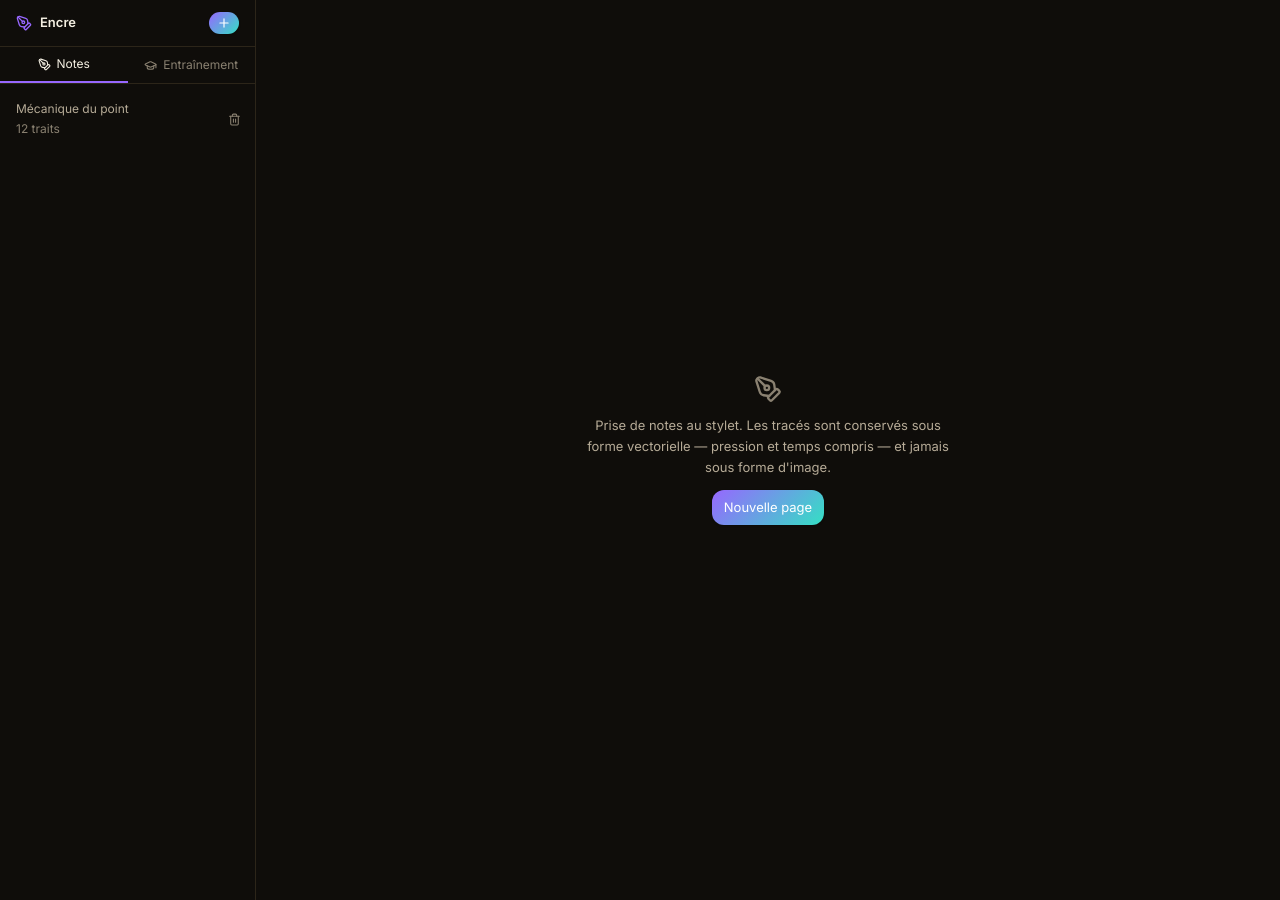
Test: module encre — frontières .json() › rend sans canvas quand jsdom ne fournit aucun contexte 2D
The width and height of the screenshot is (1280, 900).
Click the text "Mécanique du point".
click(72, 108)  # box x1=16 y1=101 x2=129 y2=116
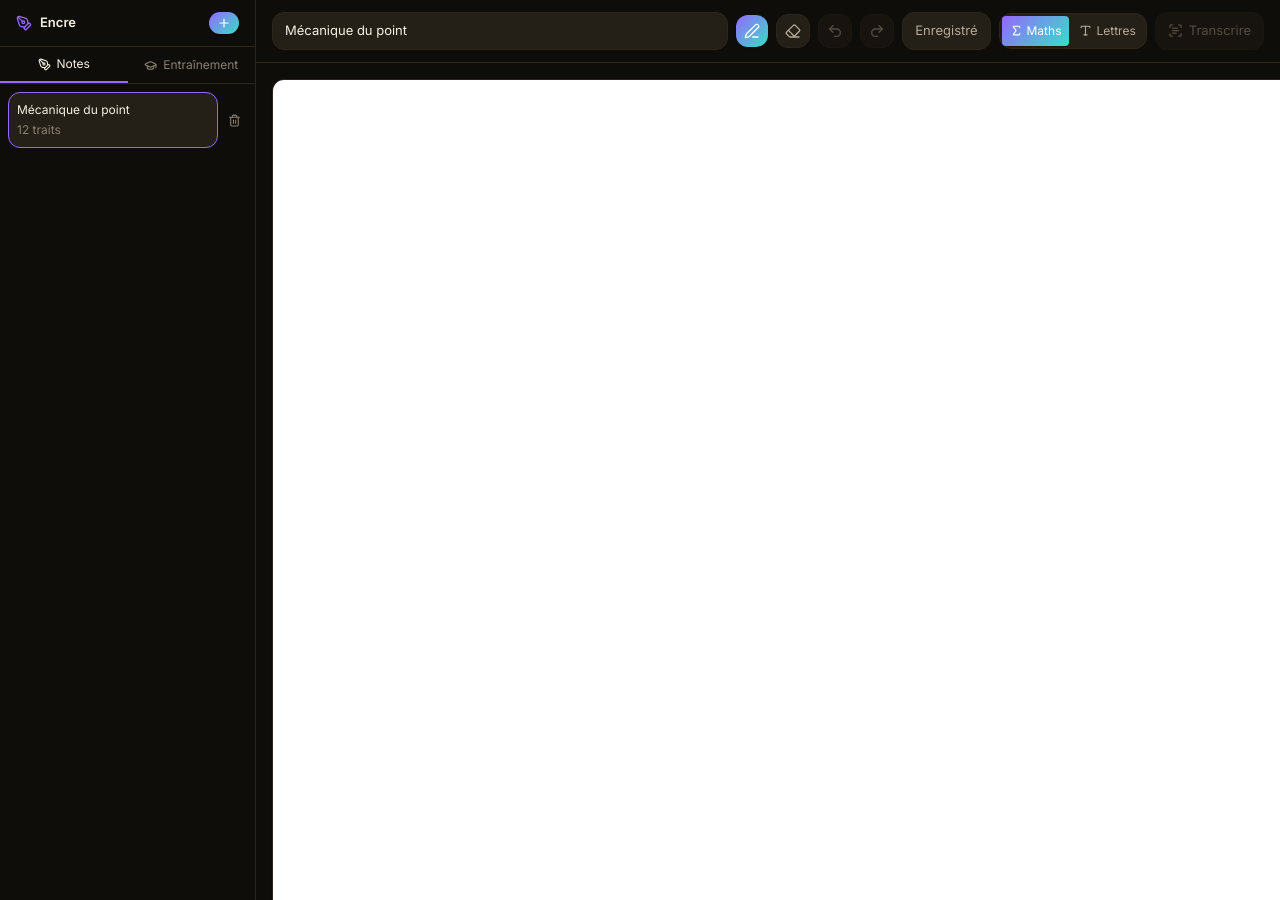
Expected: the field named "Titre de la page" is shown, x1=272 y1=12 x2=728 y2=50
